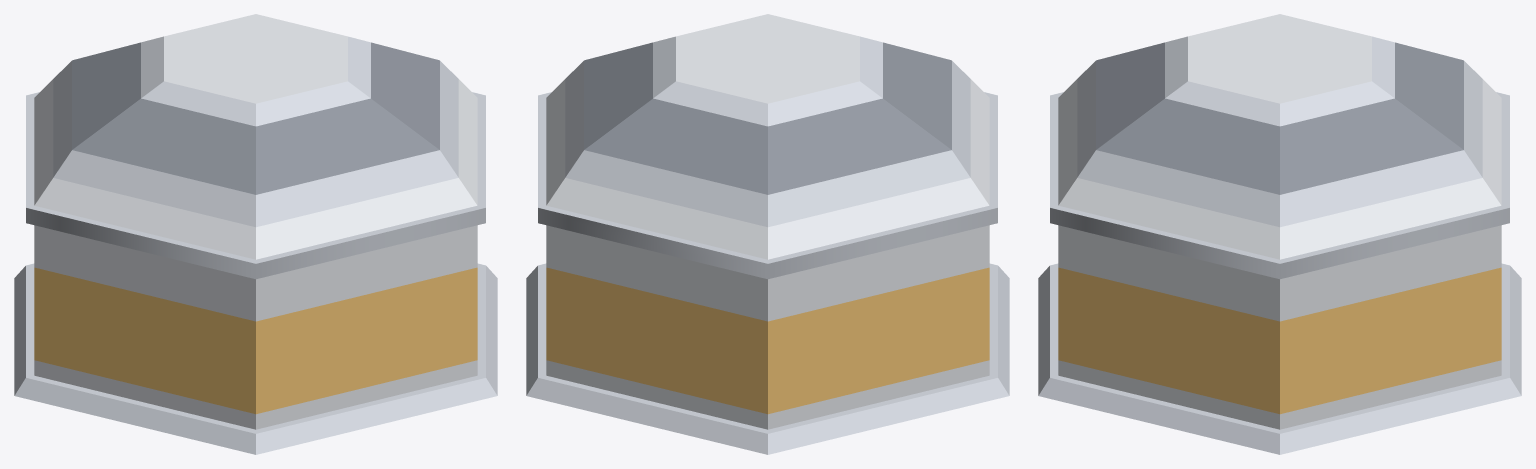
Rendered from hangar_roundB.glb.
The picture shows the model from 3 angles, left to right: view 1: azimuth 30°, elevation 25°; view 2: azimuth 150°, elevation 25°; view 3: azimuth 270°, elevation 25°; orthographic projection.
Parts seen in each view (by area): view 1: hangar_roundB; view 2: hangar_roundB; view 3: hangar_roundB.
Part boxes in pixels (bbox=[...]): hangar_roundB: bbox=[14, 14, 497, 454]; hangar_roundB: bbox=[526, 14, 1009, 454]; hangar_roundB: bbox=[1038, 14, 1521, 454].
Bounding box in the file's own units: 3.27 × 1.8 × 2.83.
